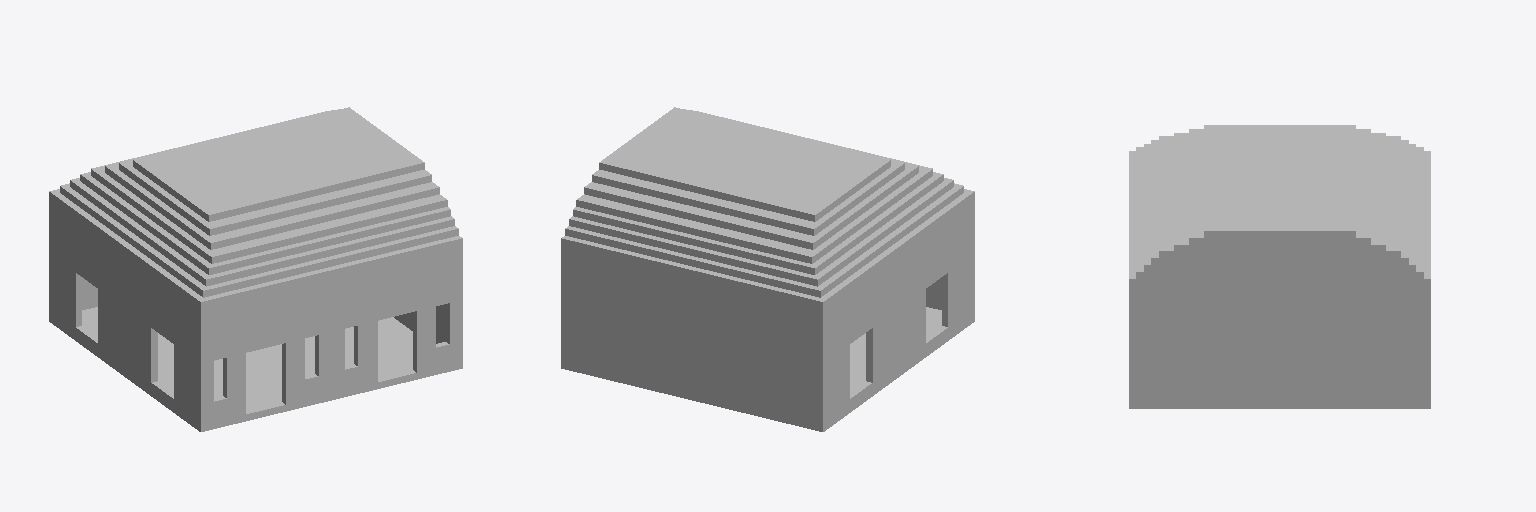
The model's file is pozzi.obj.
The picture shows the model from 3 angles: view 1: azimuth 30°, elevation 25°; view 2: azimuth 150°, elevation 25°; view 3: azimuth 270°, elevation 25°; orthographic projection.
Parts seen in each view (by area): view 1: object 1; view 2: object 1; view 3: object 1.
Part boxes in pixels (left/top/right/bottom): object 1: left=49, top=107, right=462, bottom=431; object 1: left=561, top=107, right=974, bottom=431; object 1: left=1129, top=125, right=1430, bottom=408.
Bounding box in the file's own units: 4 × 2.6 × 4.